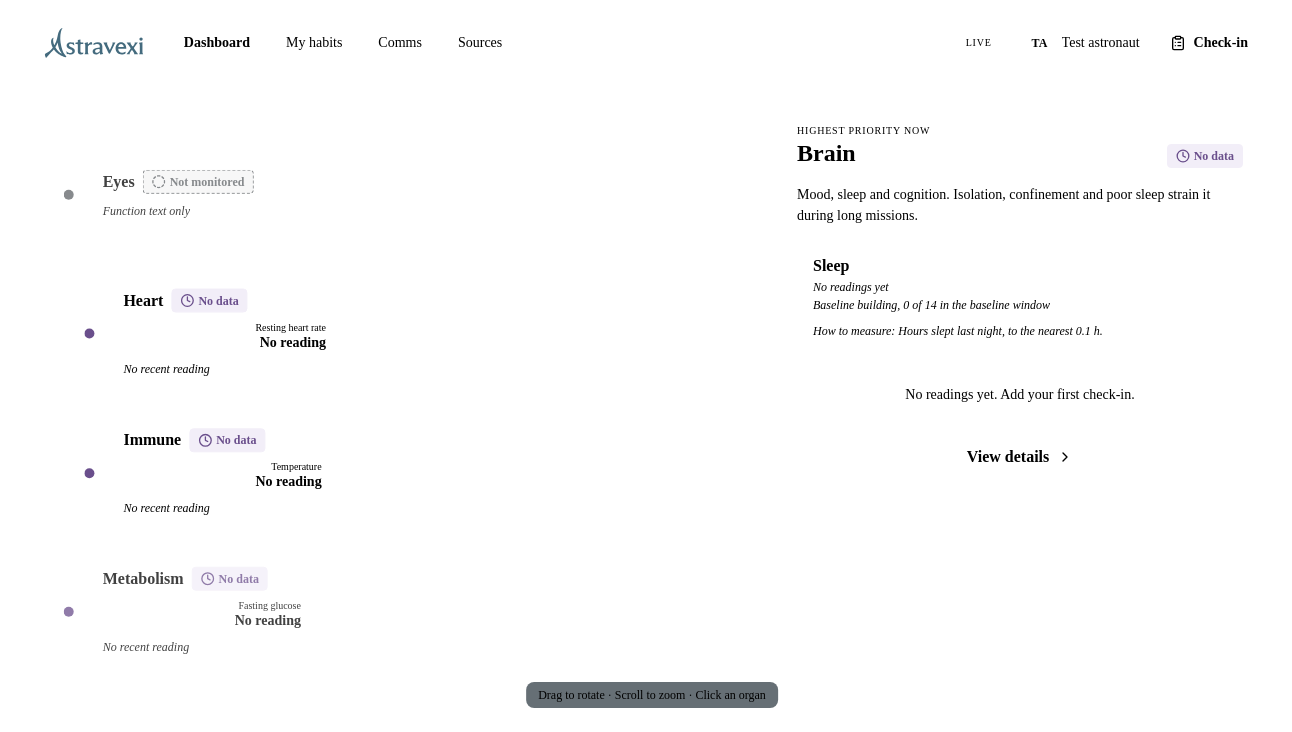
Test case: LIVE first run › starts empty: zones read No data, the panel invites the first check-in, nothing is synthetic
Expected: the text "No readings yet. Add your first check-in." is shown, left=905, top=387, right=1135, bottom=402
Click the button "Comms". click: (400, 42)
box: left=362, top=24, right=438, bottom=61
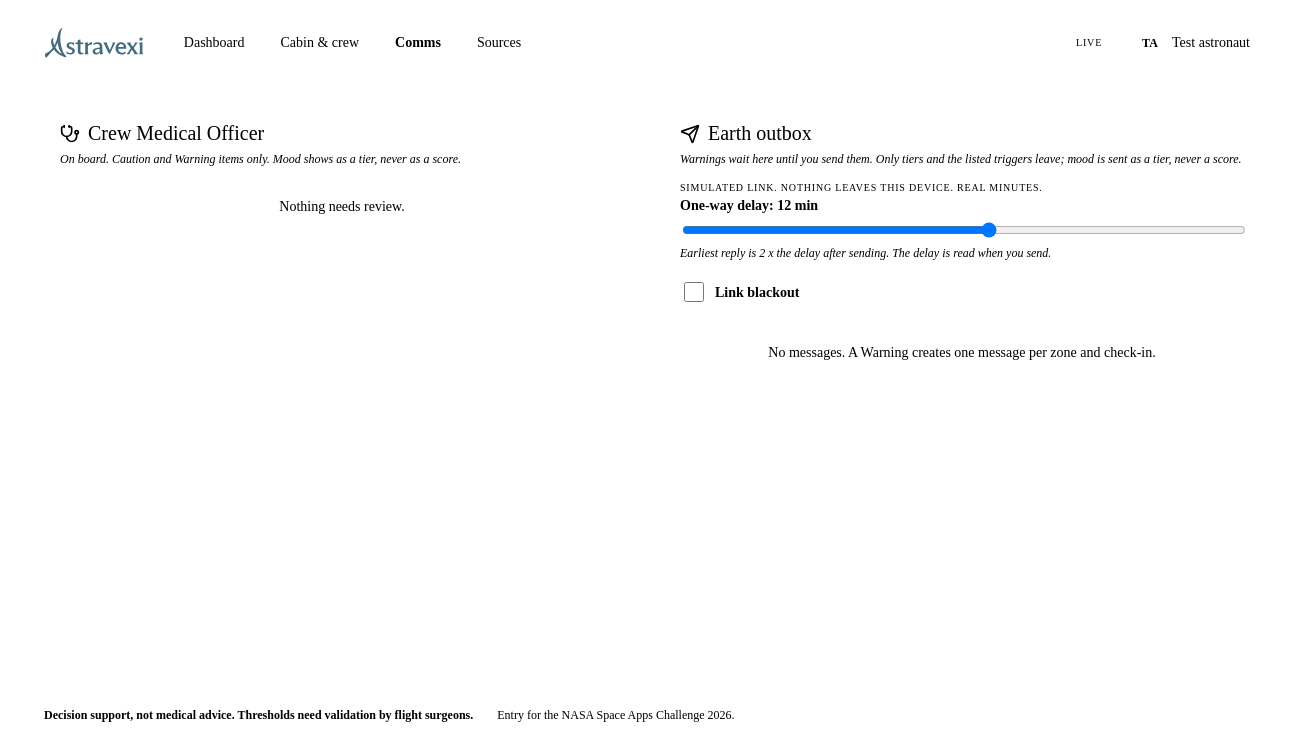
Now the text "No messages" is shown, box left=768, top=345, right=1156, bottom=360
Now the text "Nothing needs review." is shown, box left=279, top=199, right=405, bottom=214
